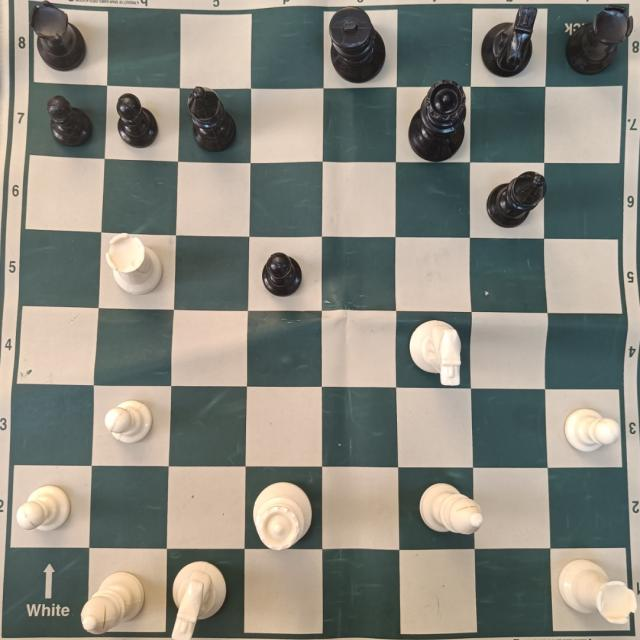black-bishop: (188, 84, 240, 155), (488, 166, 546, 229)
black-king: (330, 6, 386, 80)
black-knight: (484, 8, 540, 77)
black-pawn: (47, 95, 95, 149), (115, 92, 157, 149), (260, 252, 302, 295)
black-queen: (408, 78, 469, 161)
black-rook: (569, 8, 630, 78), (31, 3, 87, 71)
board: (0, 0, 640, 640)
white-bishop: (81, 567, 142, 631), (423, 480, 483, 538)
white-knight: (173, 560, 228, 635), (405, 316, 463, 383)
white-pawn: (565, 403, 621, 454), (101, 395, 155, 446), (19, 480, 70, 532)
white-queen: (252, 478, 314, 549)
white-rook: (556, 556, 640, 623), (107, 230, 163, 294)
